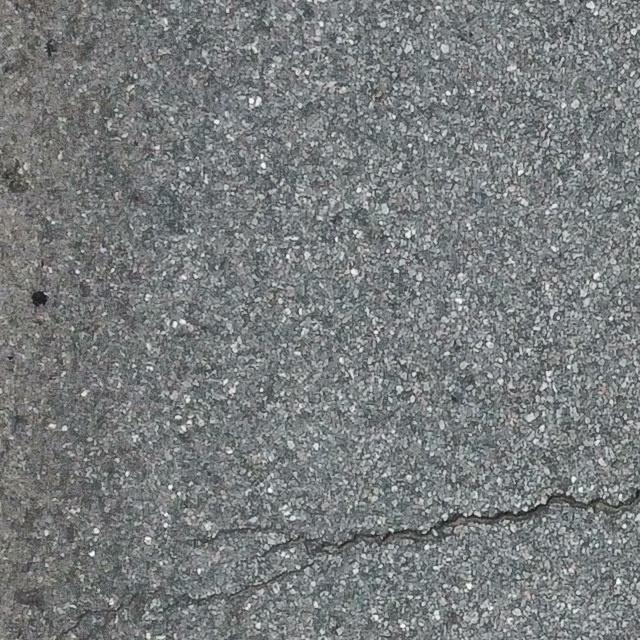TransverseCrack: (165, 485, 639, 610)
